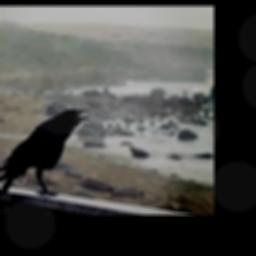Crow: (0, 107, 91, 198)
